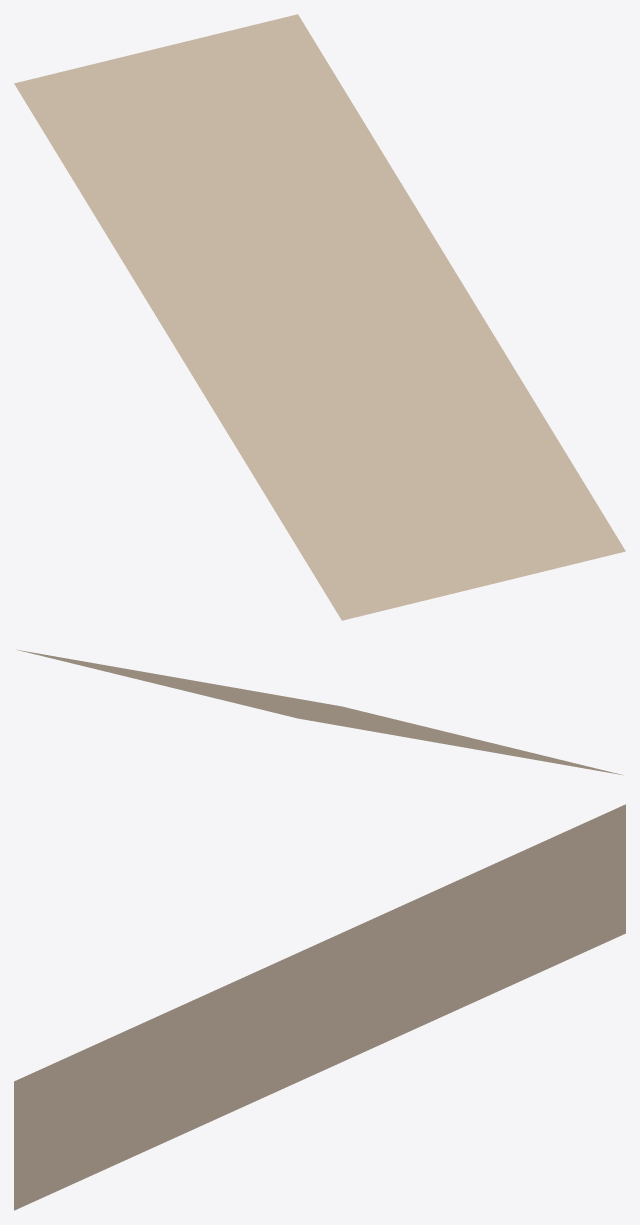
The model's file is ramp_straight.glb.
3 views of the same model, one above another, from view 1: azimuth 30°, elevation 25°; view 2: azimuth 150°, elevation 25°; view 3: azimuth 270°, elevation 25° (orthographic). The views are drawn at different scales.
Parts seen in each view (by area): view 1: RAMP_Ground_to_TestTop; view 2: RAMP_Ground_to_TestTop; view 3: RAMP_Ground_to_TestTop.
Boxes of the visible parts, bbox=[...] form: RAMP_Ground_to_TestTop: bbox=[14, 14, 625, 620]; RAMP_Ground_to_TestTop: bbox=[16, 649, 623, 775]; RAMP_Ground_to_TestTop: bbox=[14, 804, 625, 1210].
Bounding box in the file's own units: 4 × 4 × 8.
